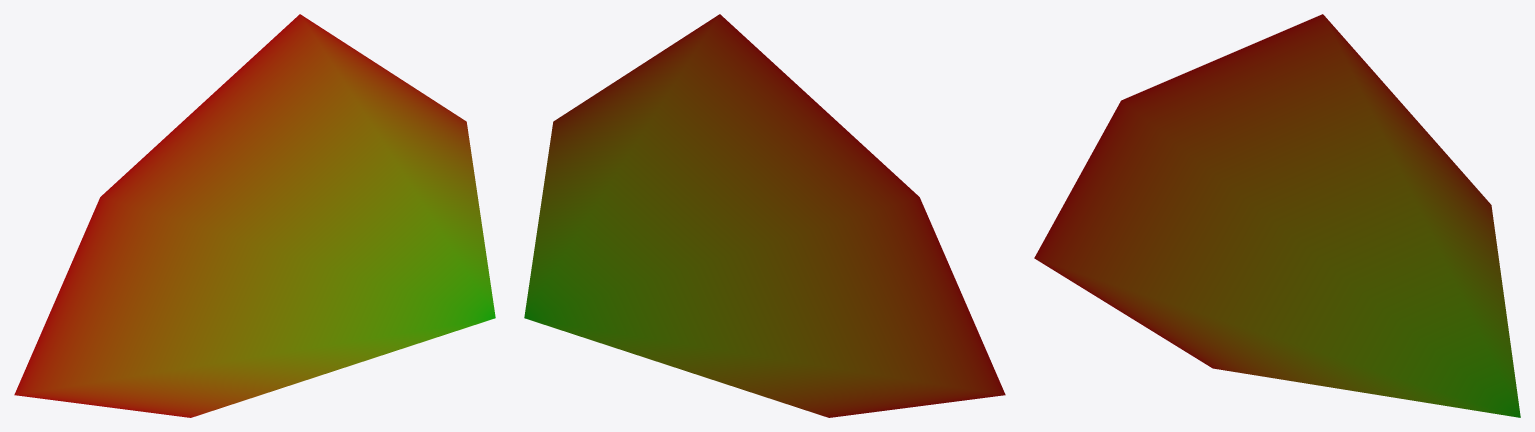
File: Leptadenia_LOD5_Var9_xdkgfgtqx.fbx
3 renders of one model, left to right at view 1: azimuth 30°, elevation 25°; view 2: azimuth 150°, elevation 25°; view 3: azimuth 330°, elevation 25°, orthographic.
Visible parts, largest first — view 1: _9ge7_Var9_LOD5; view 2: _9ge7_Var9_LOD5; view 3: _9ge7_Var9_LOD5.
Part boxes in pixels (box(x1,y1,x2,y2)): _9ge7_Var9_LOD5: box(14, 14, 495, 417); _9ge7_Var9_LOD5: box(524, 14, 1005, 417); _9ge7_Var9_LOD5: box(1034, 14, 1520, 417).
Bounding box in the file's own units: 95.2 × 71.3 × 0.
